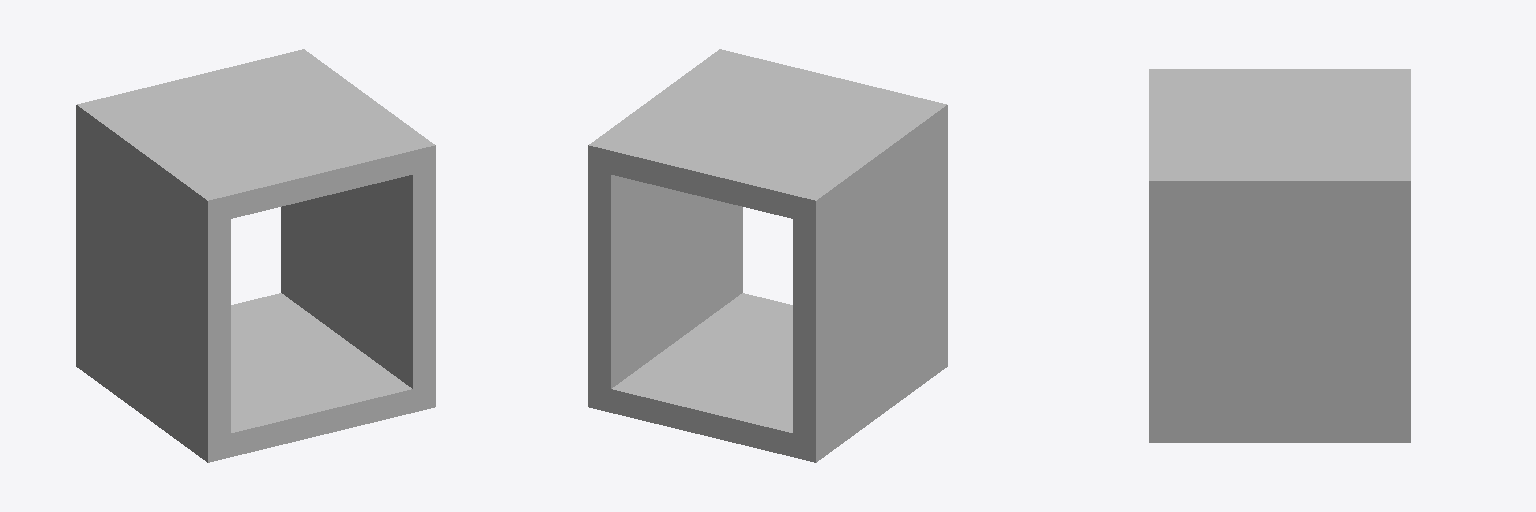
The model's file is wallSet_10.obj.
The picture shows the model from 3 angles: view 1: azimuth 30°, elevation 25°; view 2: azimuth 150°, elevation 25°; view 3: azimuth 270°, elevation 25°; orthographic projection.
Parts seen in each view (by area): view 1: wallSet_10_Cube.020; view 2: wallSet_10_Cube.020; view 3: wallSet_10_Cube.020.
Part boxes in pixels (left/top/right/bottom): wallSet_10_Cube.020: left=76, top=49, right=435, bottom=462; wallSet_10_Cube.020: left=588, top=49, right=947, bottom=462; wallSet_10_Cube.020: left=1149, top=69, right=1410, bottom=442.
Bounding box in the file's own units: 2 × 2.2 × 2.